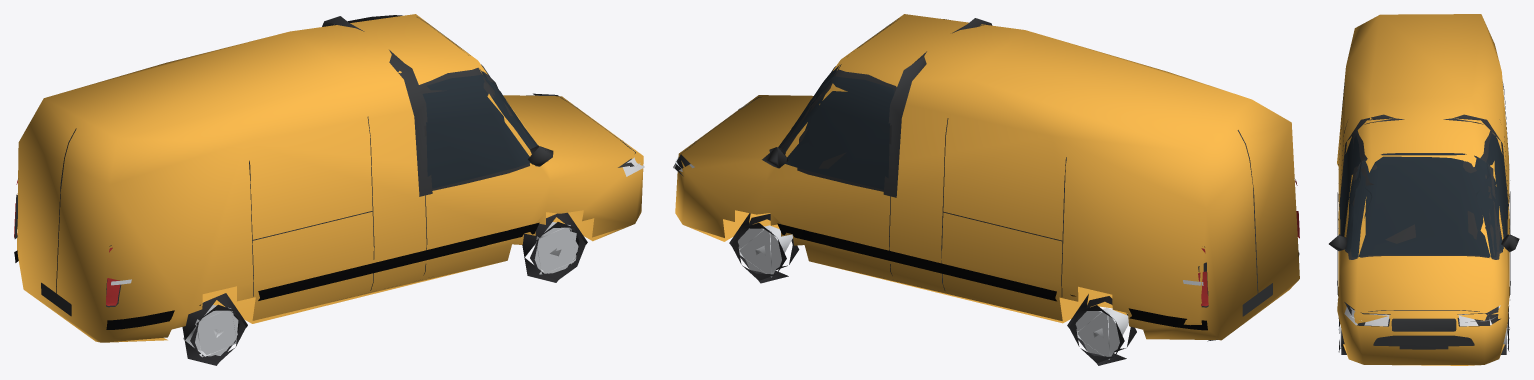
The model's file is pro_btp_ufar.glb.
The picture shows the model from 3 angles, left to right: view 1: azimuth 30°, elevation 25°; view 2: azimuth 150°, elevation 25°; view 3: azimuth 270°, elevation 25°; orthographic projection. The views are drawn at different scales.
Visible parts, largest first — view 1: Body, Glass-1, ProStripe-1, WheelRR, WheelFR, Bpillar-1, WinFrame-1; view 2: Body, Glass1, ProStripe1, WheelRL, WheelFL, Bpillar1, WinFrame1; view 3: Body, Windshield, Glass-1, WsFrame, Glass1, Intake, Grille, HeadReflector, HeadBezel, WinFrame-1, WinFrame1, Bpillar1 (+4 smaller).
Boxes of the visible parts, box(x1,y1,x2,y2) form: Body: box(17, 14, 643, 342); Glass-1: box(422, 74, 535, 188); ProStripe-1: box(106, 222, 539, 329); WheelRR: box(182, 293, 247, 365); WheelFR: box(522, 212, 587, 282); Bpillar-1: box(389, 50, 432, 196); WinFrame-1: box(419, 67, 531, 190); Body: box(675, 14, 1299, 340); Glass1: box(783, 76, 894, 189); ProStripe1: box(777, 223, 1207, 330); WheelRL: box(1067, 294, 1136, 365); WheelFL: box(729, 213, 799, 283); Bpillar1: box(883, 51, 926, 197); WinFrame1: box(782, 69, 896, 191); Body: box(1337, 14, 1509, 365); Windshield: box(1351, 153, 1496, 257); Glass-1: box(1340, 135, 1372, 251); WsFrame: box(1348, 153, 1499, 259); Glass1: box(1475, 133, 1507, 251); Intake: box(1373, 335, 1474, 346); Grille: box(1391, 318, 1456, 331); HeadReflector: box(1344, 305, 1500, 326); HeadBezel: box(1344, 302, 1500, 326); WinFrame-1: box(1340, 131, 1373, 253); WinFrame1: box(1480, 131, 1507, 253); Bpillar1: box(1443, 114, 1508, 209).
Bounding box in the file's own units: 5.62 × 2.31 × 2.14.
